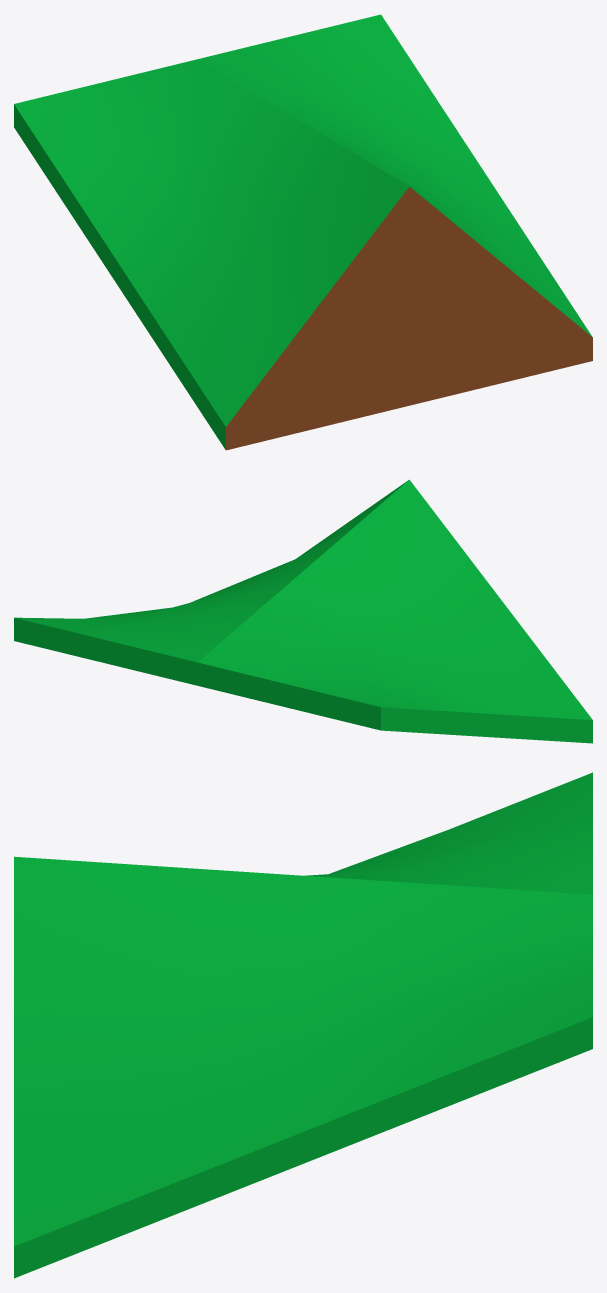
The model's file is basic_pointy.gltf.
3 renders of one model, top to bottom at view 1: azimuth 30°, elevation 25°; view 2: azimuth 150°, elevation 25°; view 3: azimuth 270°, elevation 25°, orthographic. The views are drawn at different scales.
Parts seen in each view (by area): view 1: basic_pointy_glb; view 2: basic_pointy_glb; view 3: basic_pointy_glb.
Boxes of the visible parts, x1,y1,x2,y2 form: basic_pointy_glb: (14, 14, 592, 450); basic_pointy_glb: (14, 479, 592, 743); basic_pointy_glb: (14, 772, 592, 1278).
Size of what is drawn, in the model's own units: 4 by 2.28 by 4.
Materials: 1 (1 with a texture image).
